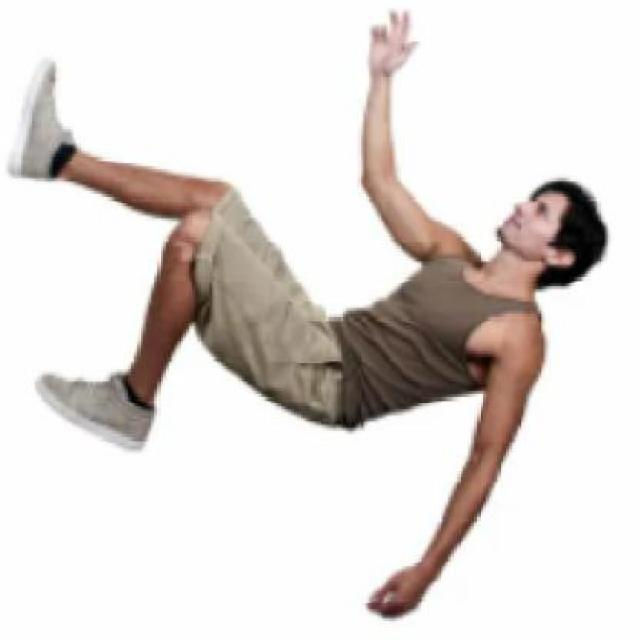fall: (14, 11, 601, 615)
